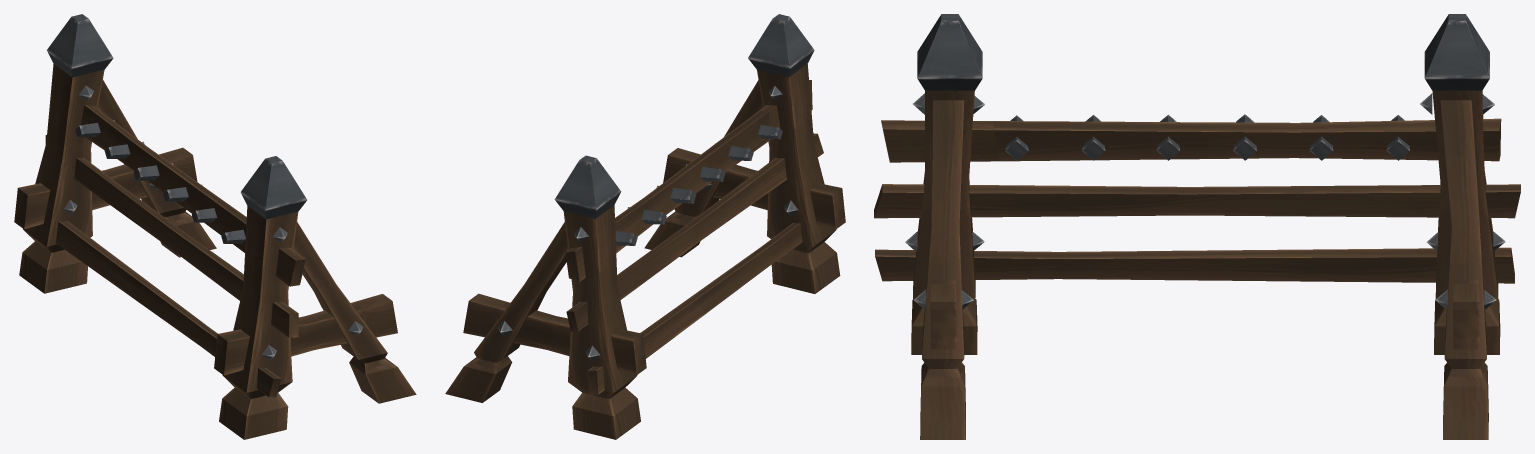
The model's file is A_CA_GEN_WeaponRack_01.fbx.
3 views of the same model, side by side, from view 1: azimuth 30°, elevation 25°; view 2: azimuth 150°, elevation 25°; view 3: azimuth 270°, elevation 25° (orthographic). The views are drawn at different scales.
Parts seen in each view (by area): view 1: A_CA_GEN_WeaponRack_01; view 2: A_CA_GEN_WeaponRack_01; view 3: A_CA_GEN_WeaponRack_01.
Boxes of the visible parts, <box> form: A_CA_GEN_WeaponRack_01: <box>14,14,416,439</box>; A_CA_GEN_WeaponRack_01: <box>445,14,845,439</box>; A_CA_GEN_WeaponRack_01: <box>874,14,1520,439</box>.
Size of the model in its own units: 287 by 376 by 652.
Materials: 1 (1 with a texture image).
